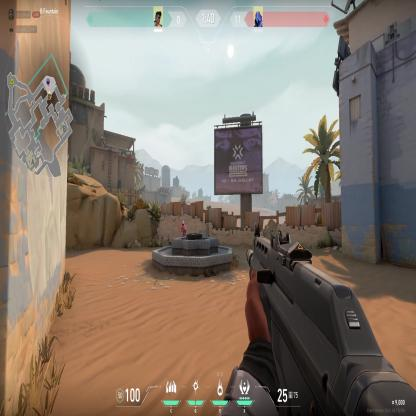enemy: (180, 218, 186, 237)
